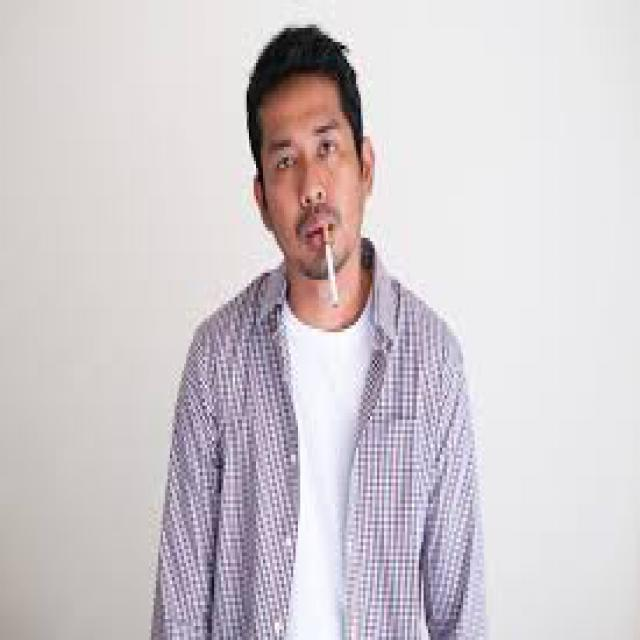cigarette: (318, 217, 343, 312)
